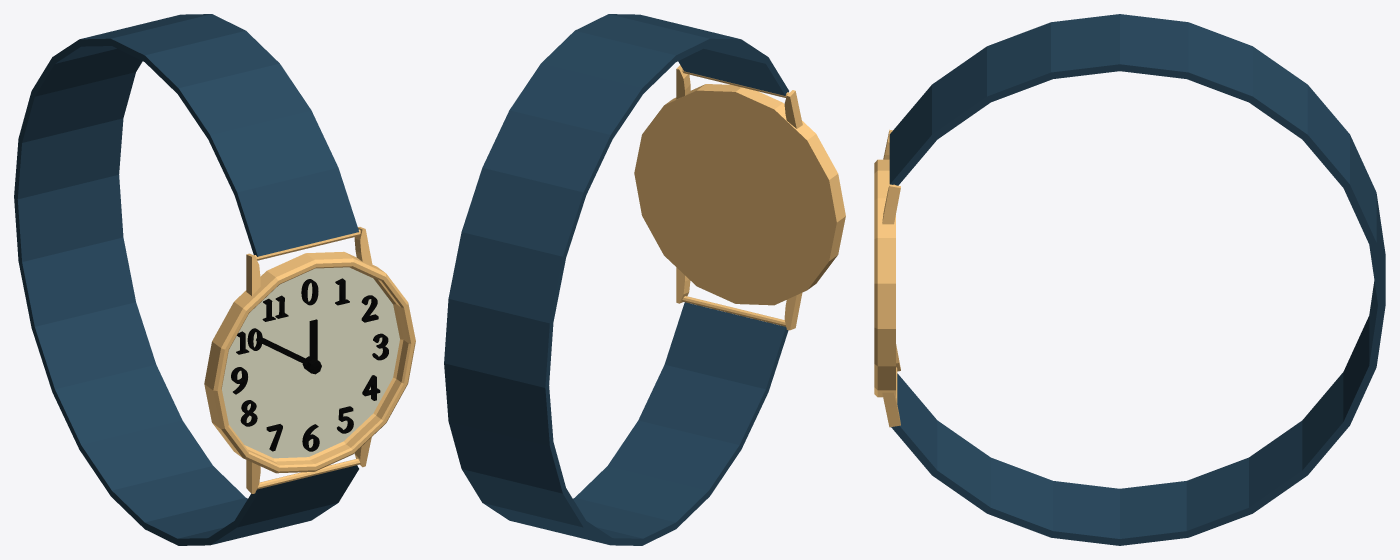
Rendered from theme02_watch02.fbx.
The picture shows the model from 3 angles, left to right: view 1: azimuth 30°, elevation 25°; view 2: azimuth 150°, elevation 25°; view 3: azimuth 270°, elevation 25°; orthographic projection.
Visible parts, largest first — view 1: watch02final; view 2: watch02final; view 3: watch02final.
Part boxes in pixels (box(x1,y1,x2,y2)): watch02final: box(14, 14, 415, 545); watch02final: box(444, 14, 845, 545); watch02final: box(874, 14, 1385, 545).
Bounding box in the file's own units: 45.16 × 101 × 97.08.
